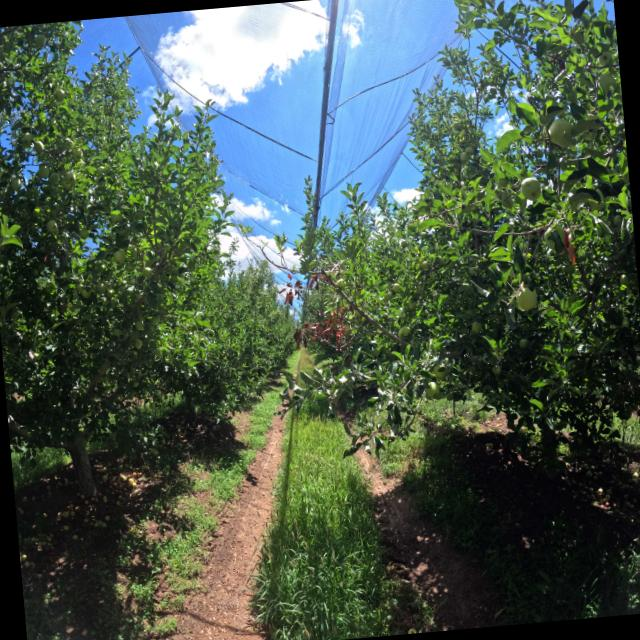-FireBlight-: (291, 317, 352, 349), (293, 321, 352, 351), (278, 274, 304, 306), (324, 306, 348, 322), (307, 272, 322, 290)
